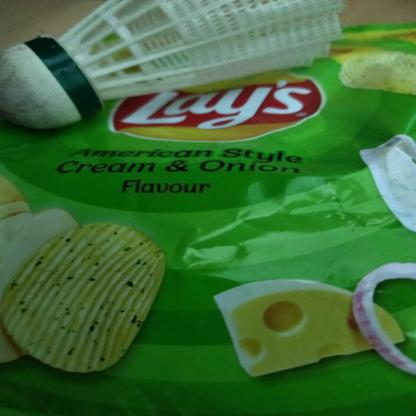cream_and_onion: (1, 34, 411, 413)
